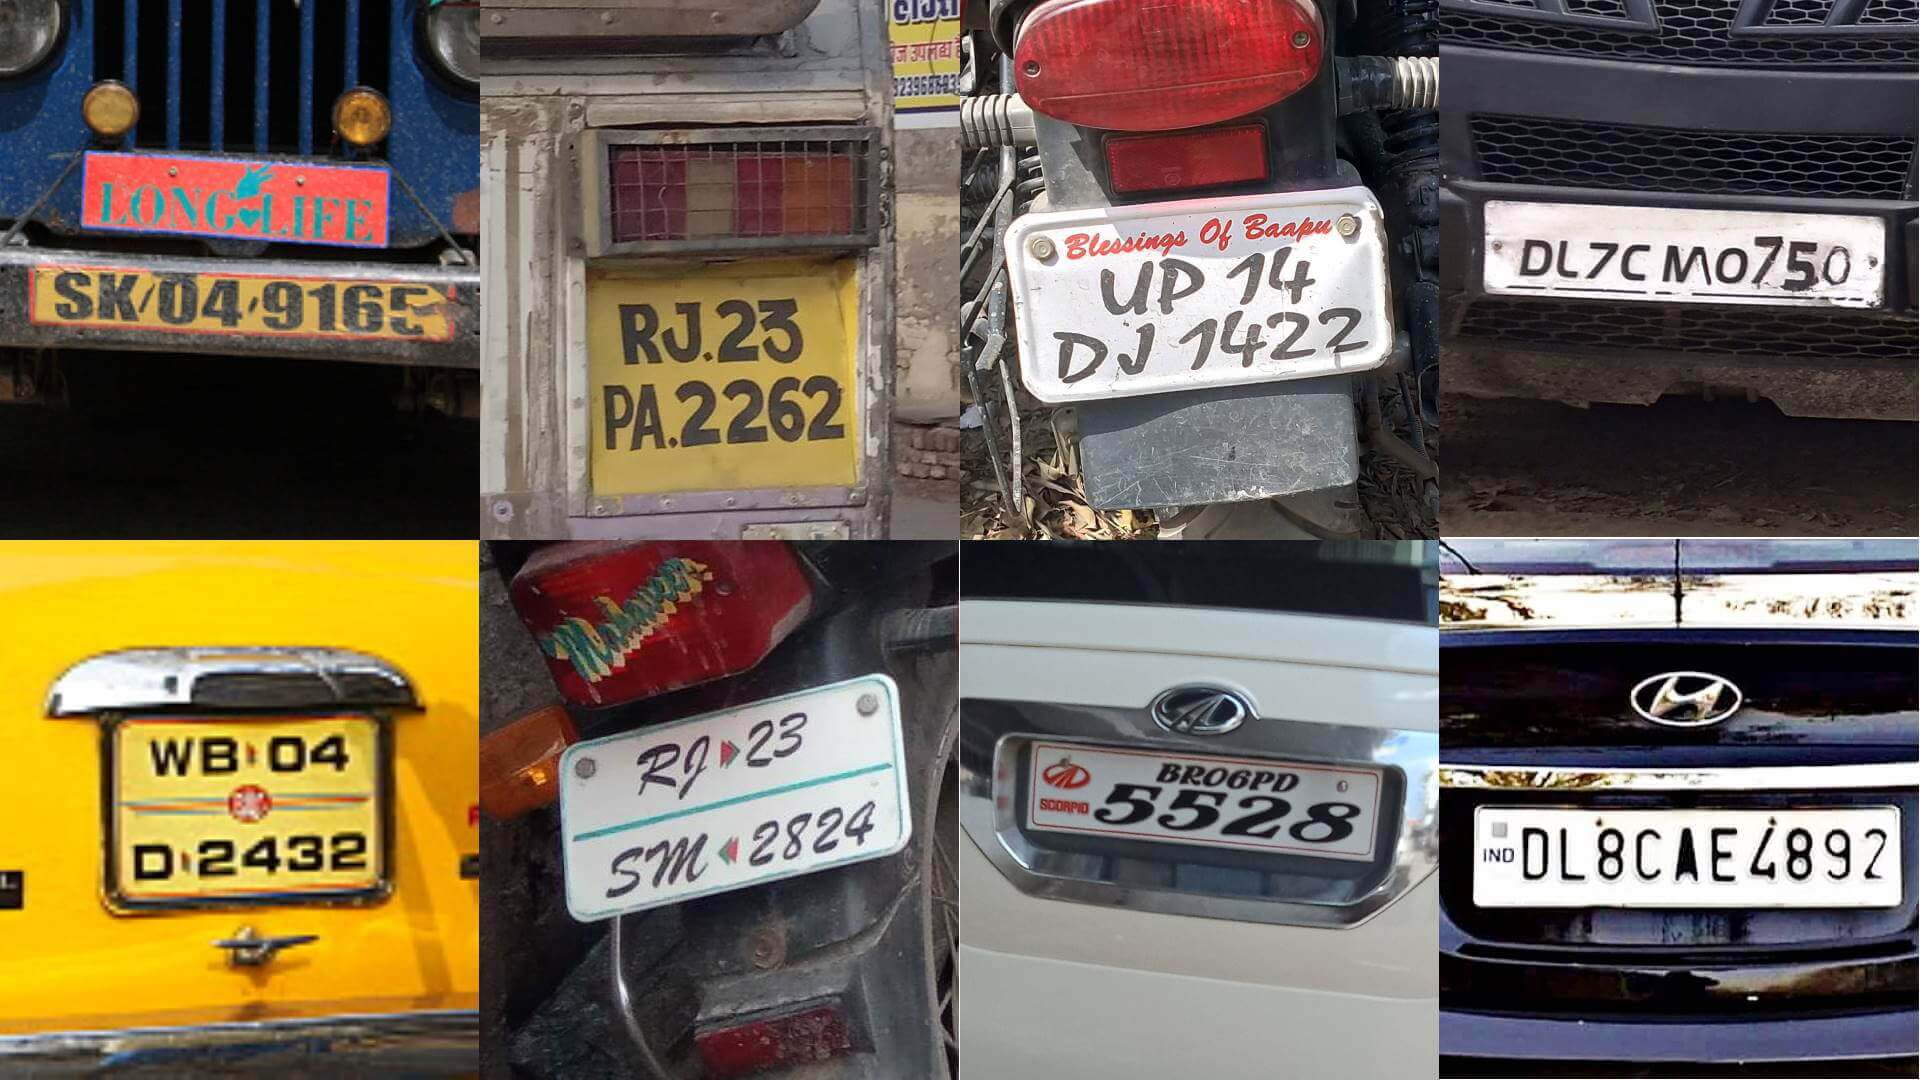doublelinenumberplate: (554, 677, 922, 923), (1000, 186, 1400, 402), (584, 259, 865, 504), (103, 699, 395, 907)
numberplate: (1468, 799, 1906, 913), (1030, 734, 1397, 869), (1478, 194, 1887, 310), (19, 261, 454, 340)
